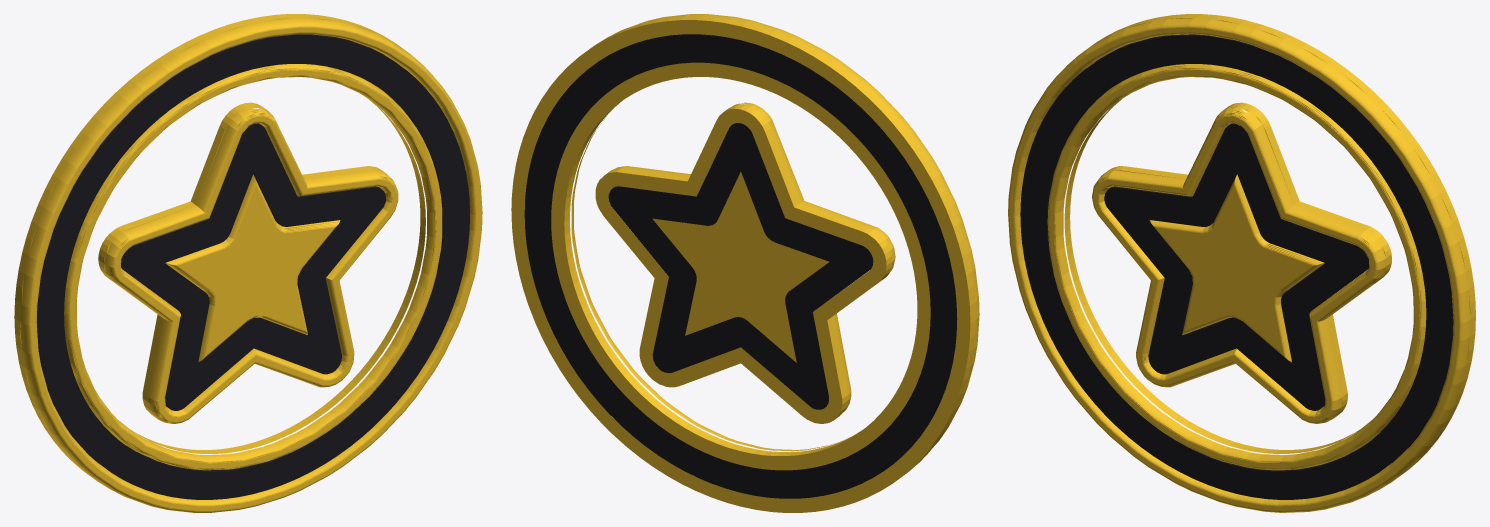
File: perfect_cycles_t3.glb
3 renders of one model, left to right at view 1: azimuth 30°, elevation 25°; view 2: azimuth 150°, elevation 25°; view 3: azimuth 330°, elevation 25°, orthographic.
Parts seen in each view (by area): view 1: mark, mark_channel; view 2: mark, mark_channel; view 3: mark, mark_channel.
Boxes of the visible parts, bbox=[...] form: mark: bbox=[14, 14, 482, 512]; mark_channel: bbox=[36, 34, 469, 499]; mark: bbox=[511, 14, 979, 512]; mark_channel: bbox=[524, 34, 957, 498]; mark: bbox=[1008, 14, 1475, 512]; mark_channel: bbox=[1020, 34, 1453, 499].
Bounding box in the file's own units: 0.52 × 0.52 × 0.024.
